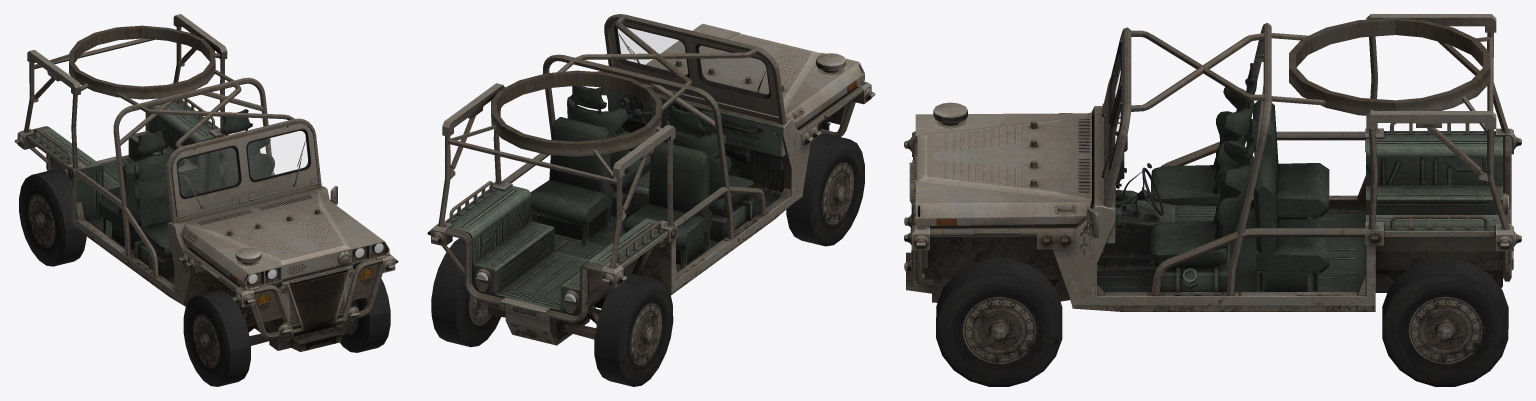
Rendered from growler.fbx.
3 views of the same model, side by side, from view 1: azimuth 30°, elevation 25°; view 2: azimuth 150°, elevation 25°; view 3: azimuth 270°, elevation 25° (orthographic). The views are drawn at different scales.
Visible parts, largest first — view 1: body, r_f_wheel, r_b_wheel, glass (×2), l_f_wheel; view 2: body, r_b_wheel, r_f_wheel, l_b_wheel, glass (×2); view 3: body, l_f_wheel, l_b_wheel.
Part boxes in pixels (x1=…): body: x1=14, y1=14, x2=398, y2=351; r_f_wheel: x1=183, y1=290, x2=250, y2=386; r_b_wheel: x1=19, y1=170, x2=86, y2=266; glass (×2): x1=178, y1=131, x2=307, y2=195; l_f_wheel: x1=340, y1=278, x2=390, y2=352; body: x1=427, y1=14, x2=875, y2=345; r_b_wheel: x1=594, y1=274, x2=673, y2=386; r_f_wheel: x1=786, y1=133, x2=864, y2=246; l_b_wheel: x1=431, y1=238, x2=500, y2=347; glass (×2): x1=617, y1=28, x2=768, y2=94; body: x1=904, y1=14, x2=1521, y2=311; l_f_wheel: x1=936, y1=258, x2=1062, y2=386; l_b_wheel: x1=1382, y1=258, x2=1508, y2=386.
Bounding box in the file's own units: 69.28 × 77.79 × 159.
